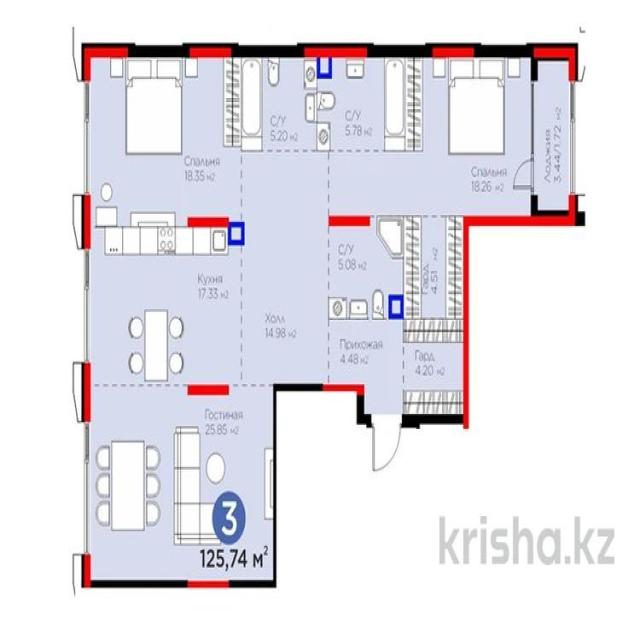balcony: (537, 51, 574, 222)
bathroom: (317, 56, 407, 155), (328, 218, 404, 320), (244, 51, 316, 152)
hallway: (241, 149, 407, 420)
kitchen: (86, 224, 244, 386)
living_room: (85, 384, 277, 583), (329, 53, 536, 222), (86, 49, 244, 226)
other: (403, 216, 465, 319), (403, 320, 465, 421)
